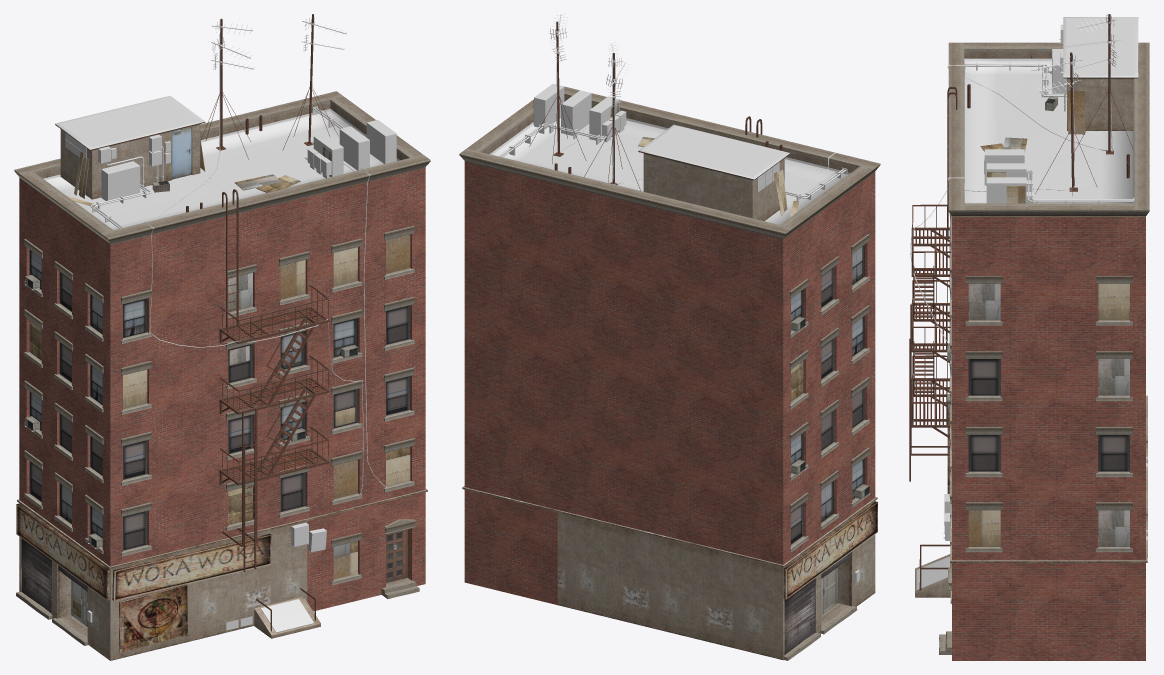
Rendered from old building.fbx.
3 renders of one model, left to right at view 1: azimuth 30°, elevation 25°; view 2: azimuth 150°, elevation 25°; view 3: azimuth 270°, elevation 25°, orthographic. The views are drawn at different scales.
Visible parts, largest first — view 1: polySurface55_Brickedge01_0, polySurface55_Stucco01_0, polySurface55_Rooftar01_0, polySurface55_ConcreteDetail_0, polySurface55_Windows01_0, polySurface55_Rusty_0, polySurface55_Boards01_0, polySurface55_Utility_0, polySurface55_Sign01_0, polySurface55_Concrete_poured01_0, polySurface55_Sign02_0, polySurface55_Doors01_0 (+2 smaller); view 2: polySurface55_Brickedge01_0, polySurface55_Stucco01_0, polySurface55_Rooftar01_0, polySurface55_Concrete_poured01_0, polySurface55_ConcreteDetail_0, polySurface55_Utility_0, polySurface55_Windows01_0, polySurface55_Sign01_0, polySurface55_Roller01_0, polySurface55_Rusty_0, polySurface55_Boards01_0, polySurface55_DoubleDoor_0; view 3: polySurface55_Brickedge01_0, polySurface55_Rooftar01_0, polySurface55_Rusty_0, polySurface55_Concrete_poured01_0, polySurface55_Boards01_0, polySurface55_ConcreteDetail_0, polySurface55_Utility_0, polySurface55_Stucco01_0, polySurface55_Windows01_0.
Part boxes in pixels (left/top/right/bottom): polySurface55_Brickedge01_0: left=19, top=168, right=425, bottom=611; polySurface55_Stucco01_0: left=17, top=101, right=427, bottom=660; polySurface55_Rooftar01_0: left=43, top=28, right=400, bottom=494; polySurface55_ConcreteDetail_0: left=14, top=99, right=430, bottom=585; polySurface55_Windows01_0: left=29, top=250, right=410, bottom=550; polySurface55_Rusty_0: left=55, top=14, right=338, bottom=631; polySurface55_Boards01_0: left=29, top=138, right=410, bottom=617; polySurface55_Utility_0: left=24, top=17, right=396, bottom=632; polySurface55_Sign01_0: left=16, top=503, right=271, bottom=600; polySurface55_Concrete_poured01_0: left=14, top=91, right=430, bottom=645; polySurface55_Sign02_0: left=119, top=584, right=187, bottom=652; polySurface55_Doors01_0: left=172, top=127, right=407, bottom=582; polySurface55_Brickedge01_0: left=464, top=162, right=875, bottom=604; polySurface55_Stucco01_0: left=462, top=96, right=877, bottom=660; polySurface55_Rooftar01_0: left=489, top=33, right=850, bottom=224; polySurface55_Concrete_poured01_0: left=459, top=86, right=879, bottom=660; polySurface55_ConcreteDetail_0: left=459, top=94, right=880, bottom=552; polySurface55_Utility_0: left=498, top=14, right=870, bottom=582; polySurface55_Windows01_0: left=791, top=245, right=864, bottom=544; polySurface55_Sign01_0: left=783, top=501, right=877, bottom=599; polySurface55_Roller01_0: left=784, top=552, right=850, bottom=654; polySurface55_Rusty_0: left=529, top=21, right=789, bottom=190; polySurface55_Boards01_0: left=533, top=100, right=803, bottom=401; polySurface55_DoubleDoor_0: left=821, top=567, right=837, bottom=614; polySurface55_Brickedge01_0: left=952, top=217, right=1145, bottom=660; polySurface55_Rooftar01_0: left=910, top=17, right=1138, bottom=527; polySurface55_Rusty_0: left=909, top=14, right=1137, bottom=590; polySurface55_Concrete_poured01_0: left=939, top=42, right=1149, bottom=654; polySurface55_Boards01_0: left=968, top=71, right=1129, bottom=546; polySurface55_ConcreteDetail_0: left=948, top=49, right=1149, bottom=603; polySurface55_Utility_0: left=916, top=14, right=1134, bottom=590; polySurface55_Stucco01_0: left=915, top=51, right=1147, bottom=597; polySurface55_Windows01_0: left=968, top=359, right=1129, bottom=471.
Bounding box in the file's own units: 891 × 1427 × 536.
Materials: 15 (13 with a texture image).
